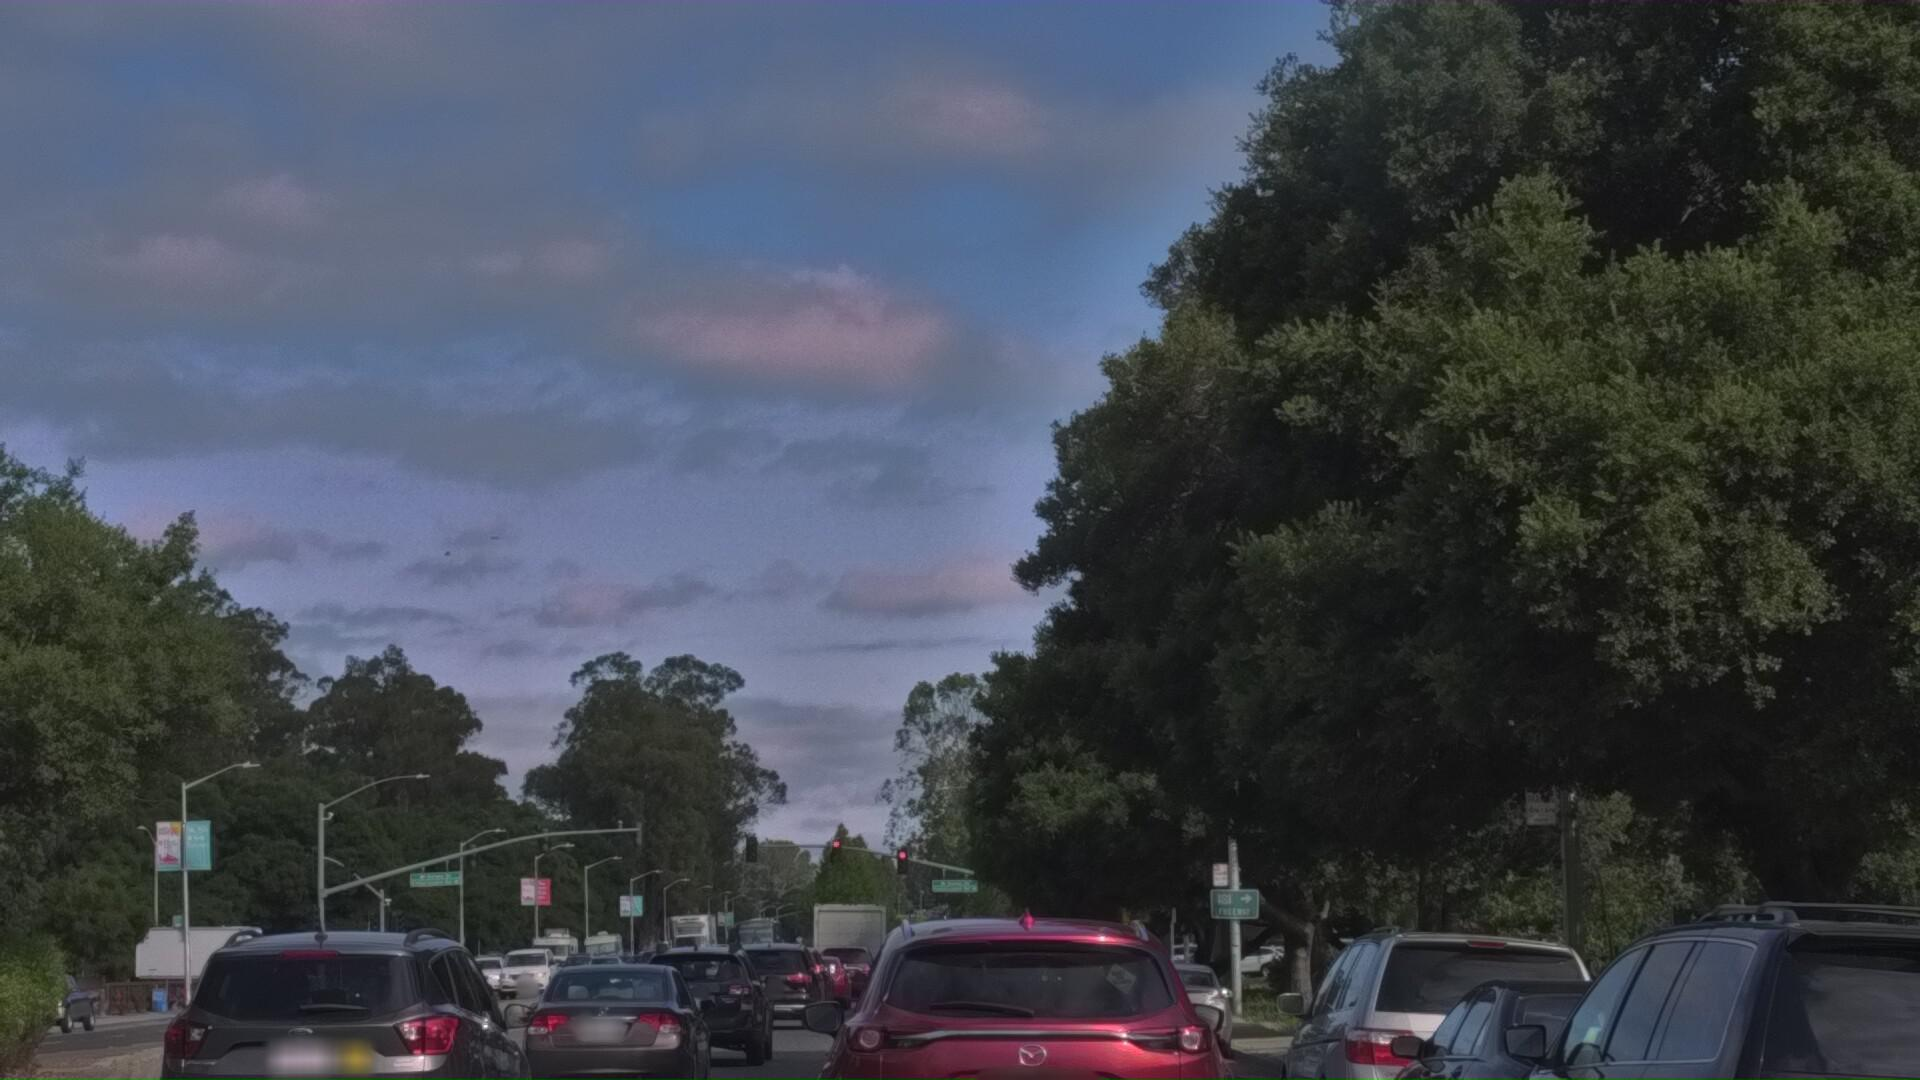car: (1449, 909, 1920, 1080), (785, 968, 1292, 1080), (1253, 981, 1654, 1080), (128, 998, 567, 1080), (1344, 1023, 1853, 1080), (612, 1036, 783, 1080), (513, 1048, 733, 1080), (856, 1042, 1022, 1080), (1098, 1036, 1237, 1080), (1739, 1050, 1920, 1080), (721, 1040, 840, 1080)
